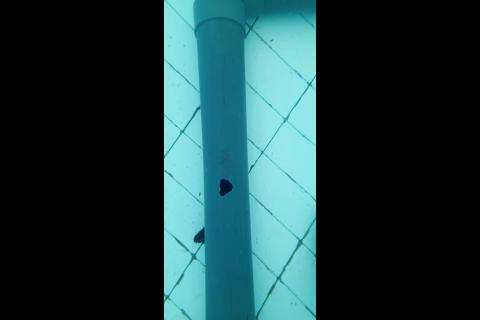kebocoran: (218, 177, 234, 197)
